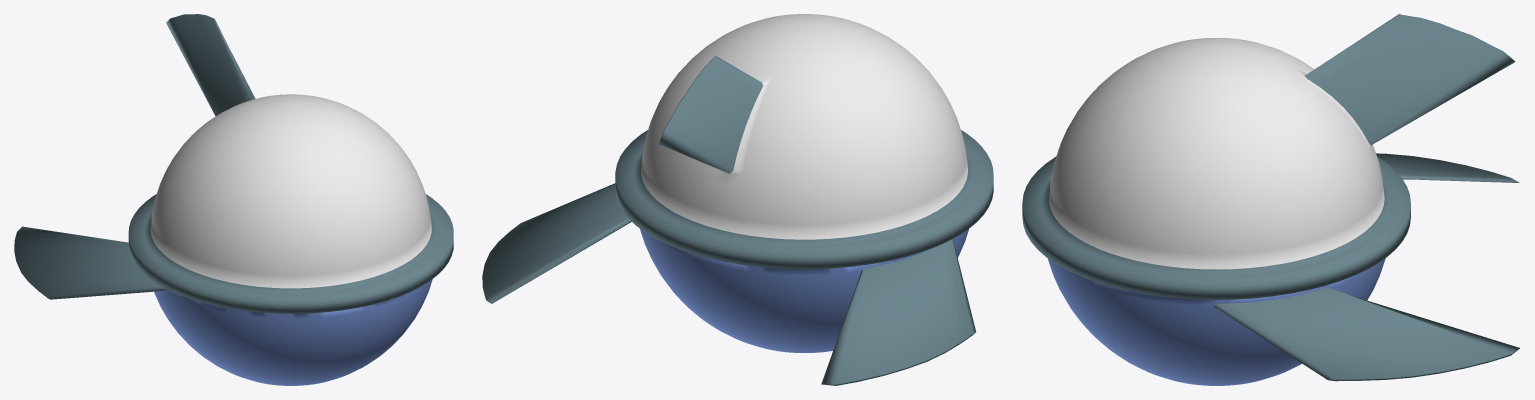
File: globe.glb
3 renders of one model, left to right at view 1: azimuth 30°, elevation 25°; view 2: azimuth 150°, elevation 25°; view 3: azimuth 270°, elevation 25°, orthographic. The views are drawn at different scales.
Visible parts, largest first — view 1: Sphere, wing1; view 2: Sphere, wing1, wing2; view 3: Sphere, wing2, wing1.
Boxes of the visible parts, x1,y1,x2,y2 form: Sphere: (128,14,453,385); wing1: (14,226,165,299); Sphere: (615,14,993,353); wing1: (821,239,975,385); wing2: (482,183,631,303); Sphere: (1022,14,1515,385); wing2: (1213,287,1519,381); wing1: (1376,153,1519,182).
Size of the model in its own units: 3.05 by 2.23 by 2.83.
